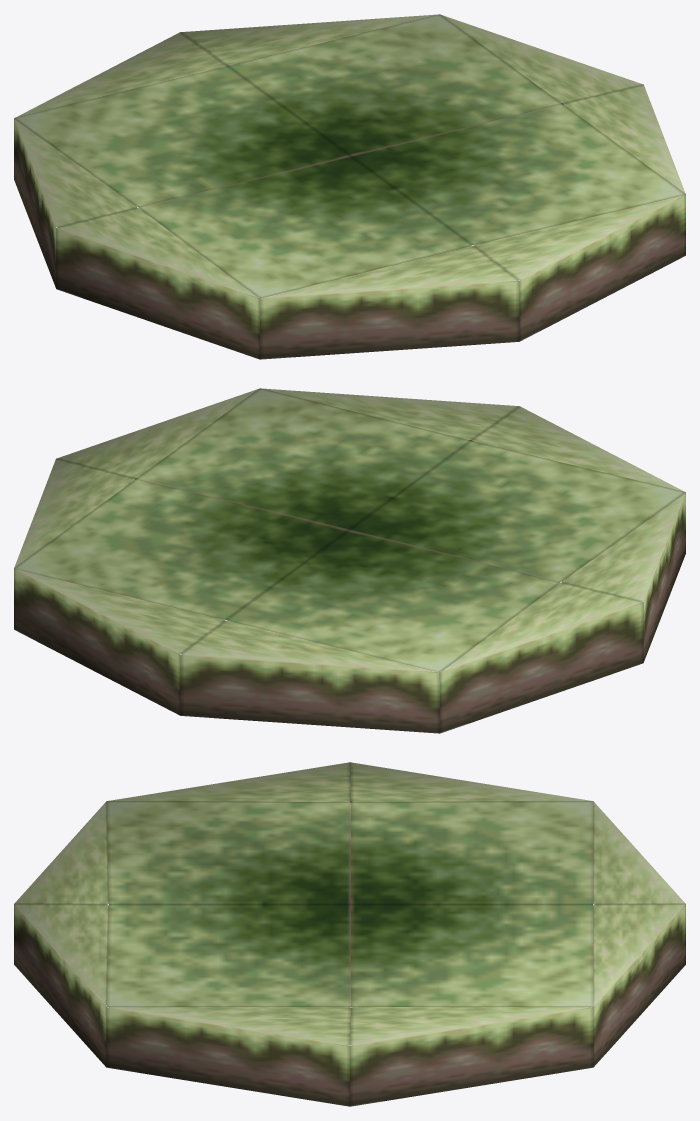
3 views of the same model, one above another, from view 1: azimuth 30°, elevation 25°; view 2: azimuth 150°, elevation 25°; view 3: azimuth 270°, elevation 25° (orthographic).
Parts seen in each view (by area): view 1: T1L2M009_14; view 2: T1L2M009_14; view 3: T1L2M009_14.
Part boxes in pixels (bbox=[...]): T1L2M009_14: bbox=[14, 14, 685, 359]; T1L2M009_14: bbox=[14, 388, 685, 733]; T1L2M009_14: bbox=[14, 762, 685, 1106].
Bounding box in the file's own units: 2 × 0.1992 × 2.
